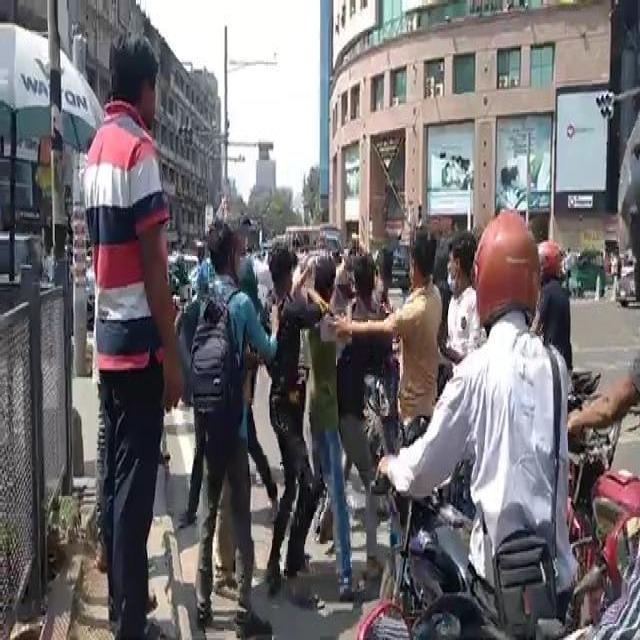fight: (195, 184, 452, 527), (84, 23, 178, 631), (438, 223, 586, 573)
